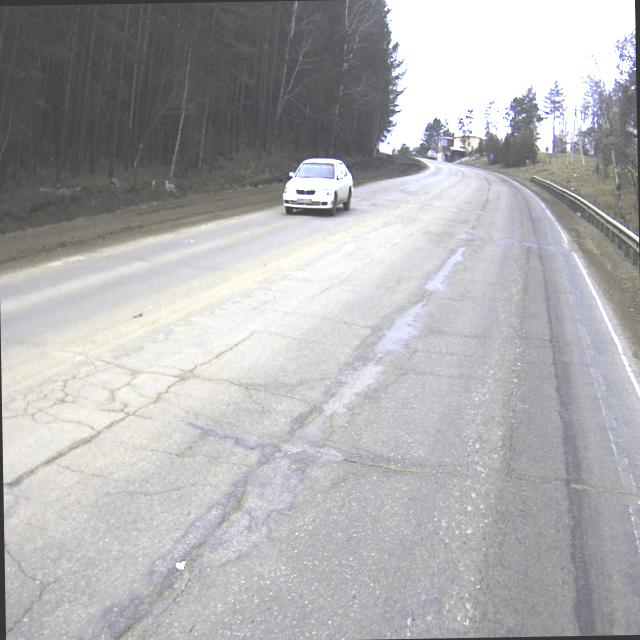road: (0, 158, 640, 640)
